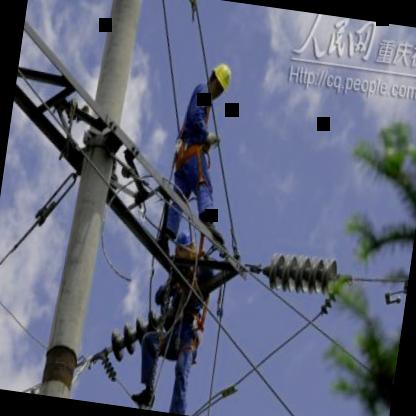helmet: (204, 58, 234, 102), (170, 225, 202, 266)
